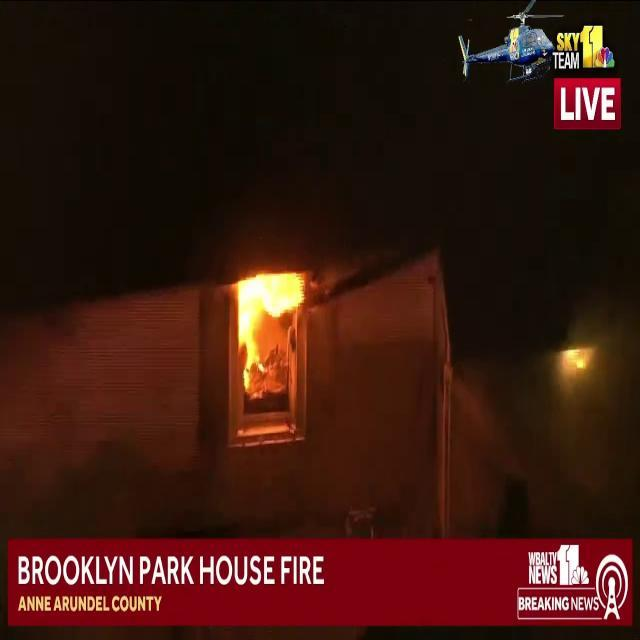Fire: (220, 264, 312, 392)
Smoke: (288, 314, 438, 521)
